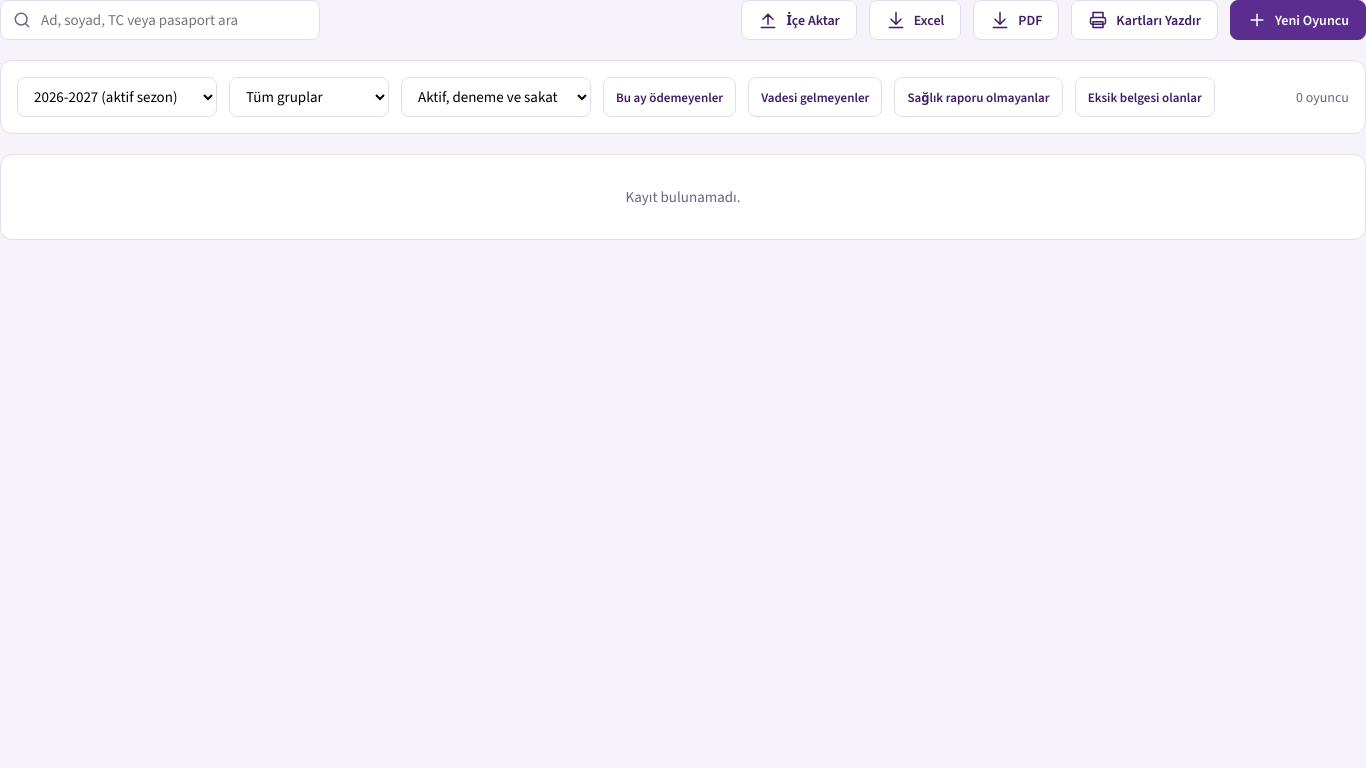
Scenario: Giriş Kartları penceresi › Kart: Tümü'de basılmış biri seçilince sarı not; tek satır seçimi ve Temizle
This screenshot has width=1366, height=768.
Click the button "Kartları Yazdır".
click(1145, 20)  # box [1071,0,1218,40]
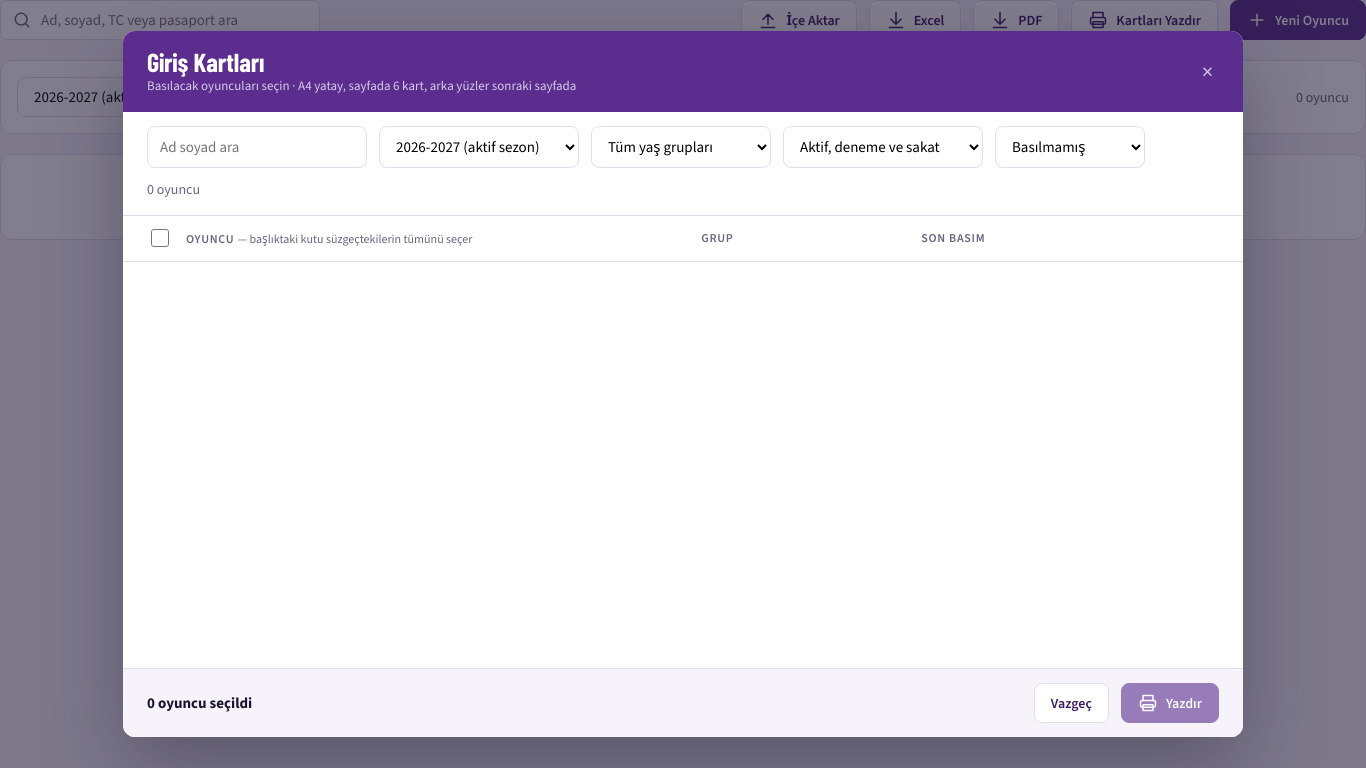
Expected: the text "Giriş Kartları" is shown, [147,46,264,77]
Select "Tümü" in the dropdown named "Kart süzgeci" at (1070, 147), box [995,126,1145,168]
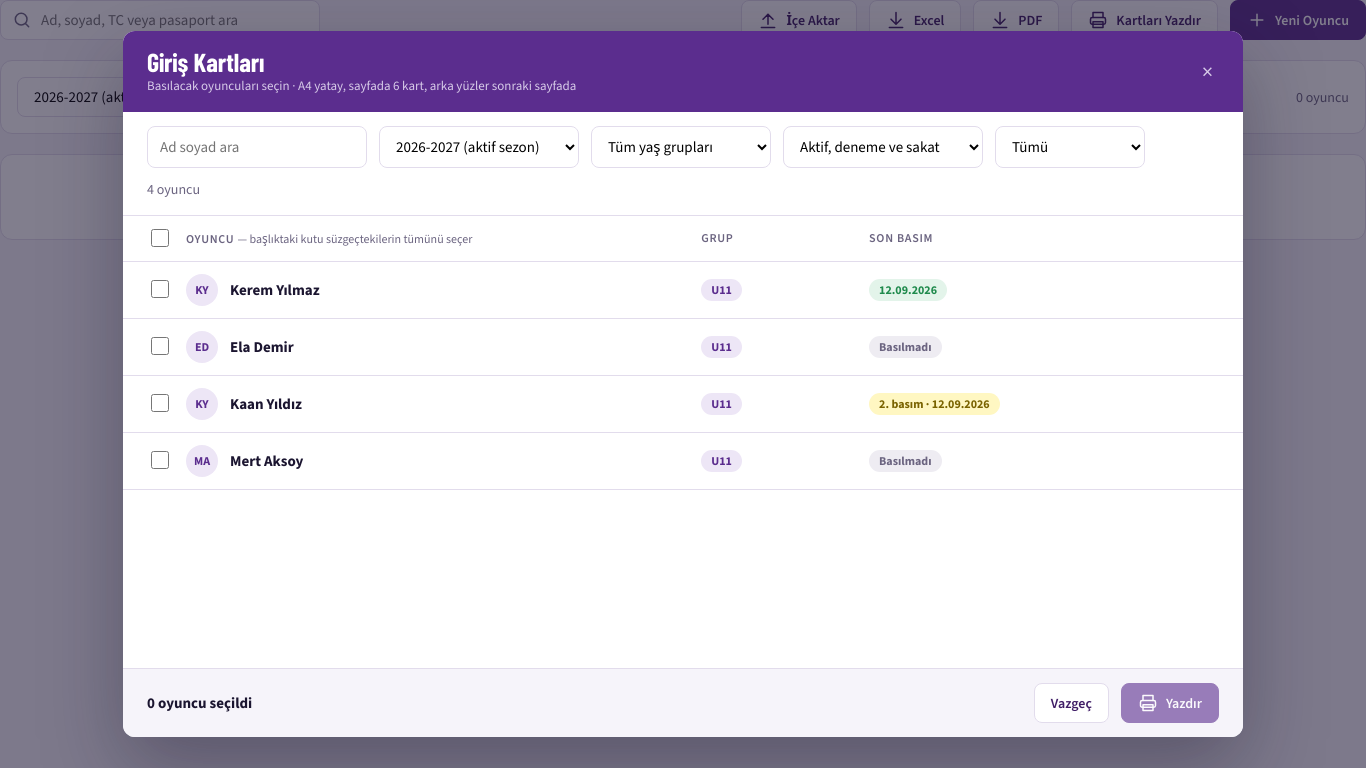
Expected: the text "Kerem Yılmaz" is shown, [230,280,320,300]
Expected: the text "12.09.2026" is shown, [869,279,947,301]
Expected: the text "2. basım · 12.09.2026" is shown, [869,393,1000,415]
Click the checkbox named "Seç: Kaan Yıldız".
click(160, 403)  # box [151,394,169,412]
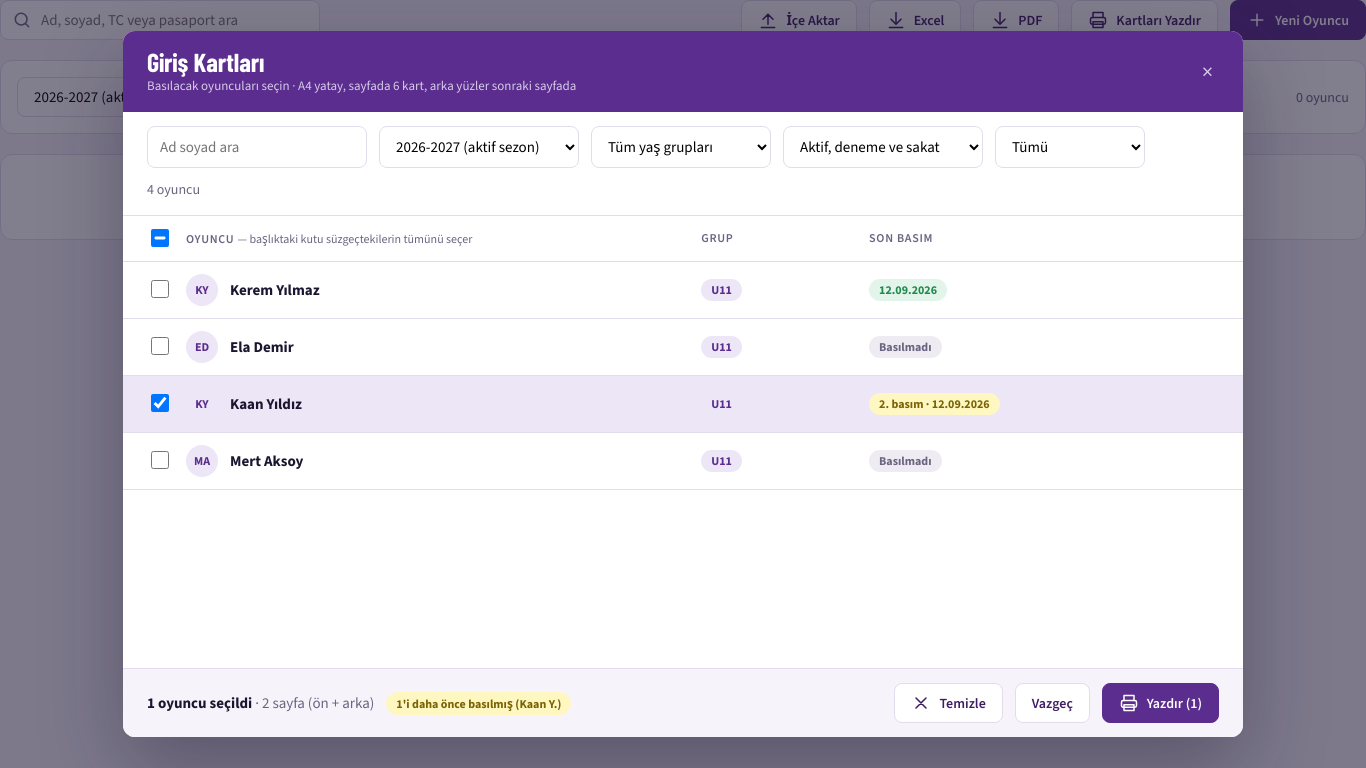
Click the checkbox named "Seç: Ela Demir".
click(160, 346)  # box [151,337,169,355]
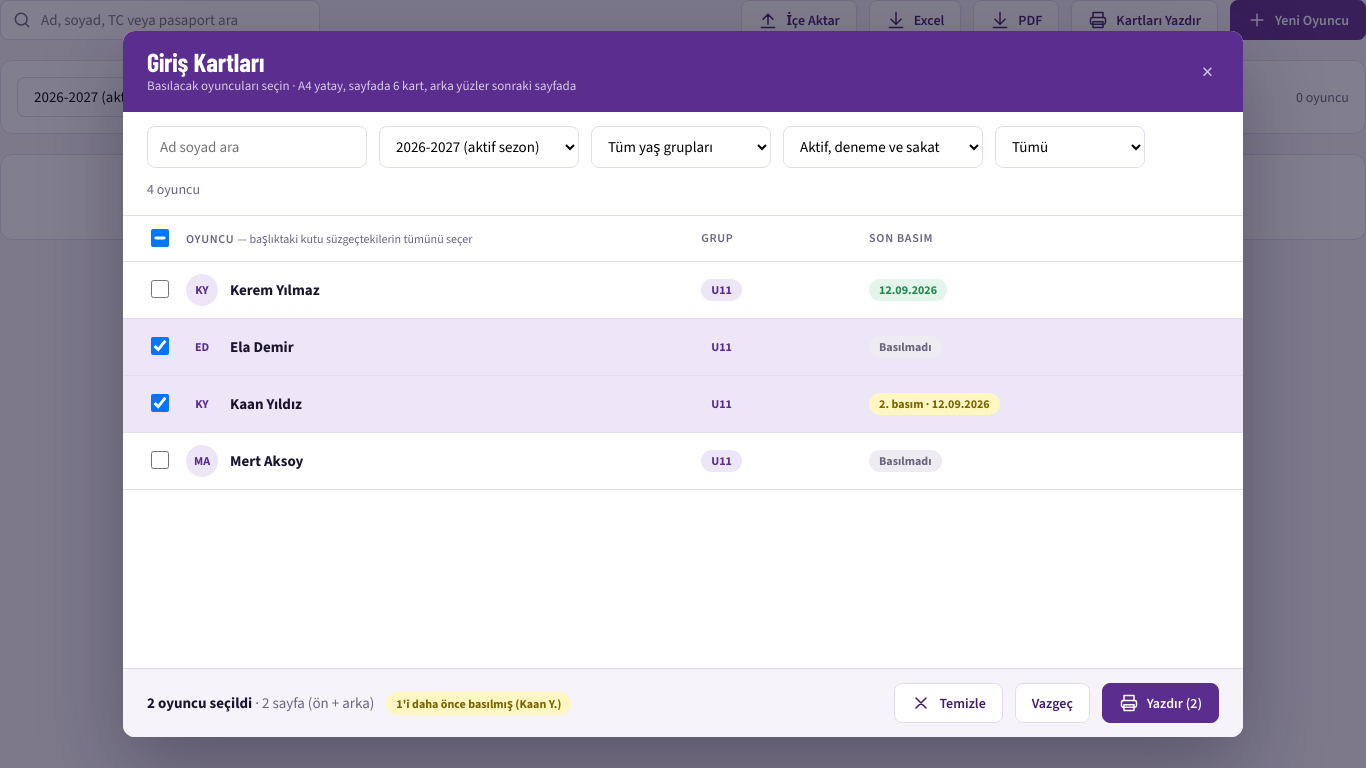
Expected: the text "1'i daha önce basılmış (Kaan Y.)" is shown, [386,692,571,715]
Expected: the text "2 oyuncu seçildi" is shown, [147,693,252,713]
Select "Basılmamış" in the dropdown named "Kart süzgeci" at (1070, 147), box [995,126,1145,168]
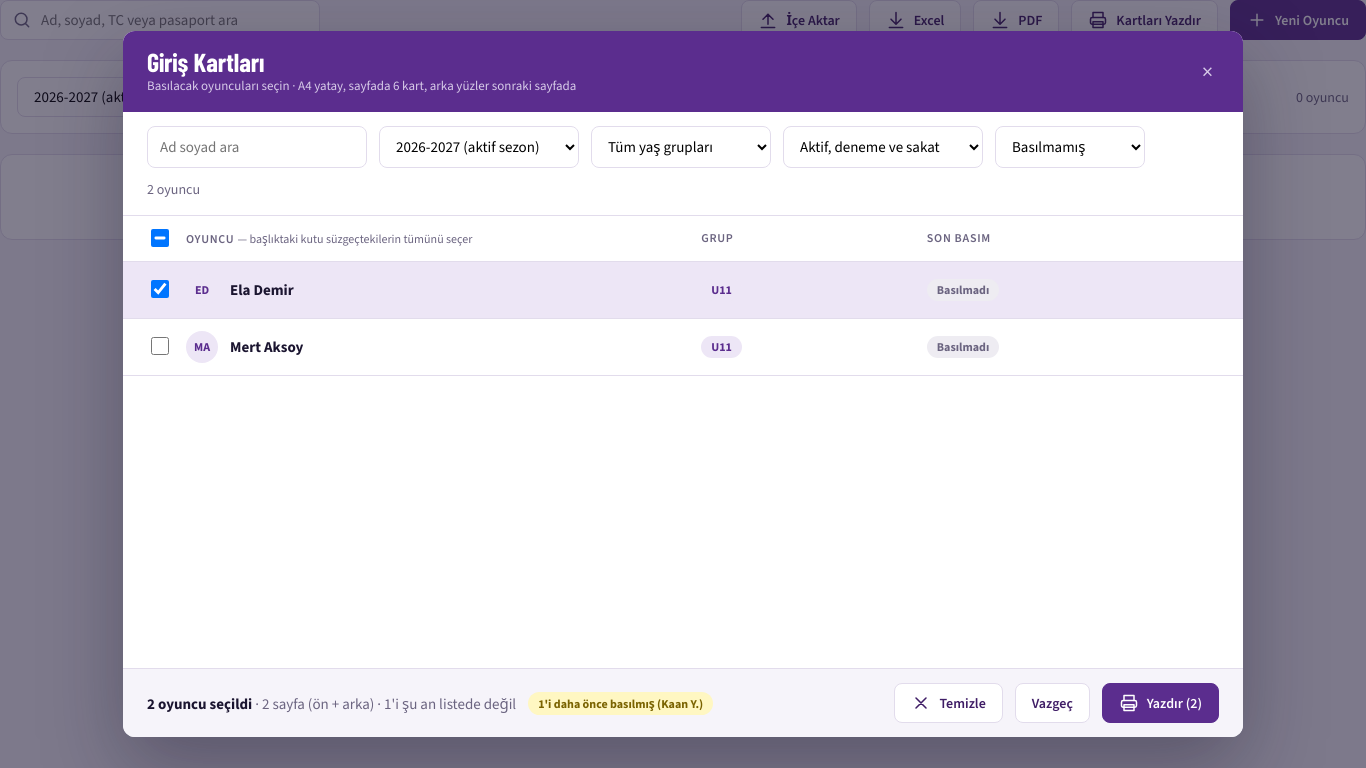
Expected: the text "Kaan Yıldız" is gone
Expected: the text "· 1'i şu an listede değil" is shown, [374,694,516,714]
Click the button "Temizle".
click(949, 703)  # box [894,683,1003,723]
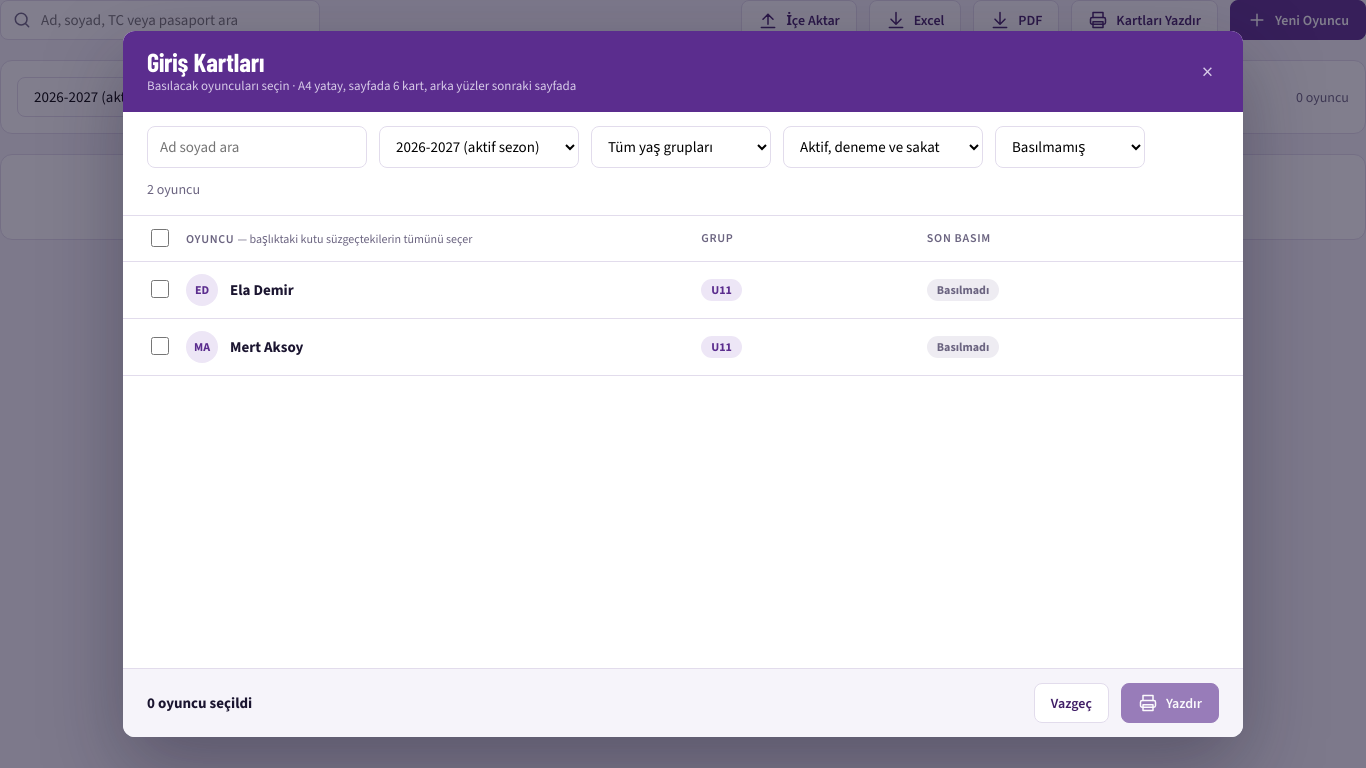
Expected: the text "0 oyuncu seçildi" is shown, [147,693,252,713]
